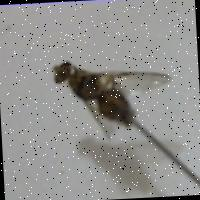Oriental-fruit-fly: (30, 45, 180, 161)
